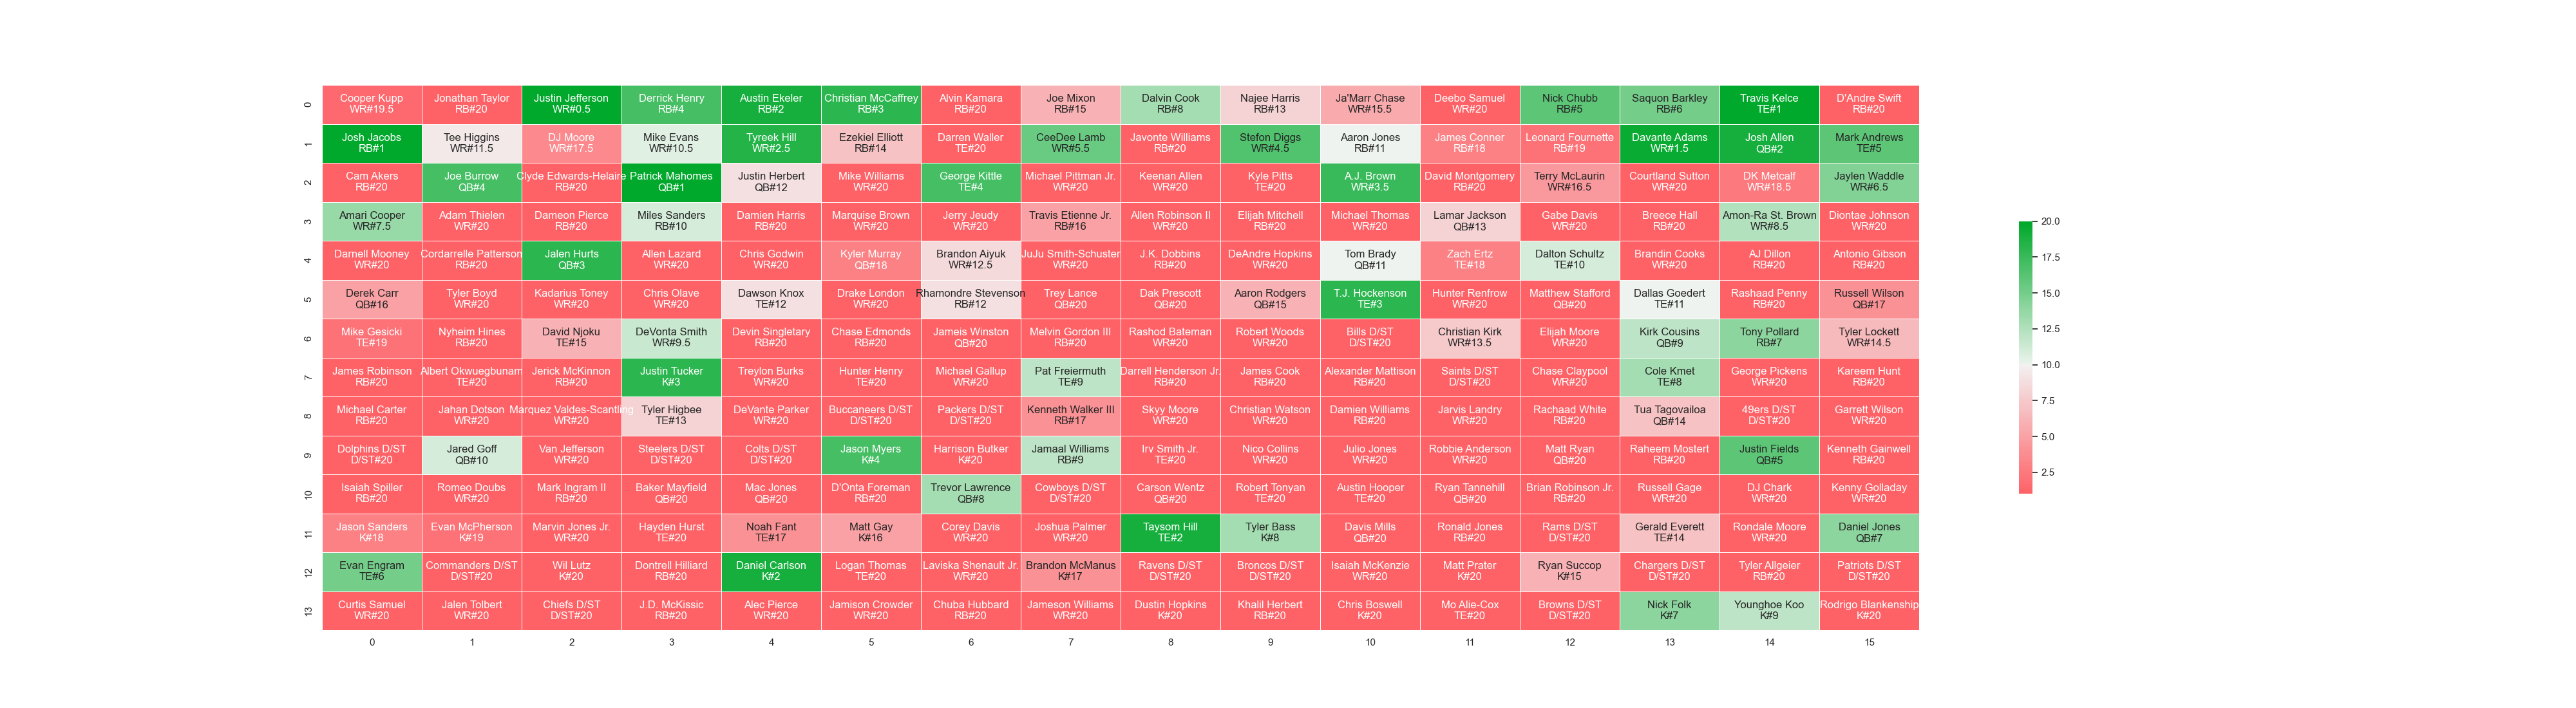

The dashboard page shown, as its layout file describes it:
{"tool":"powerbi","page":{"name":"Page 3","canvas":[1280,720],"ordinal":2},"visuals":[{"type":"pivotTable","fields":{"Rows":["Query1.round","Query1.playername"],"Columns":["Query1.pick"],"Values":["Sum(Query1.total)"]},"box":[0,0,1280,720],"z":1}]}

Visuals, with their boxes on the page's 1280x720 design canvas (x1, y1, x2, y2). These are canvas units, not pixel positions in the 2576x708 screenshot, which may show the page scaled, cropped or inside an application window:
pivotTable - Query1.round x Query1.playername: 0:0:1280:720
